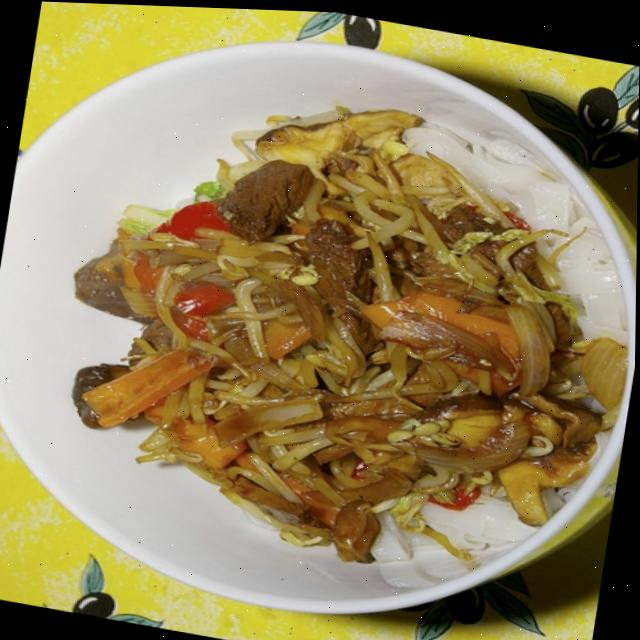牛肉菜式: (0, 16, 640, 640)
